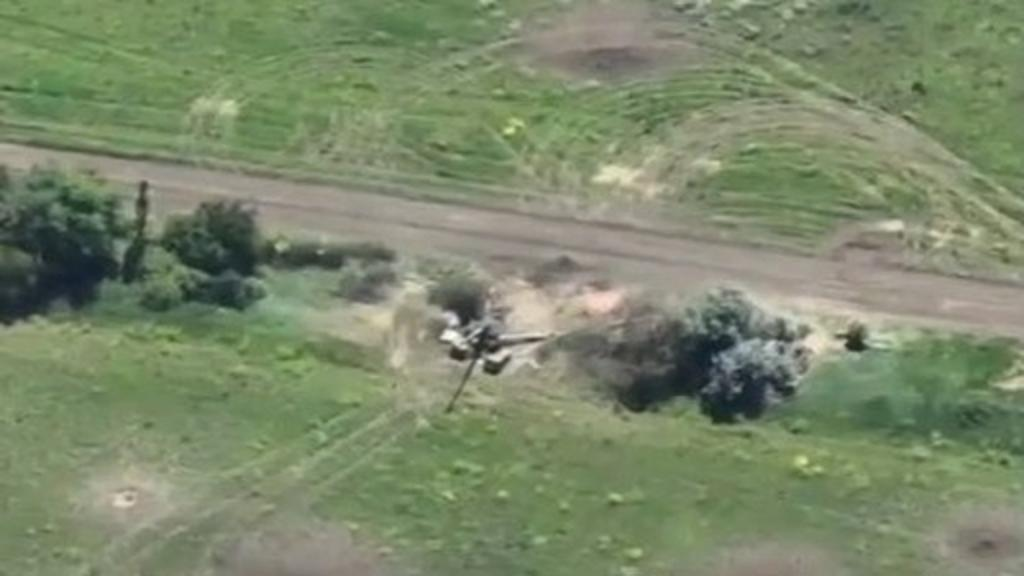ART: (444, 298, 560, 366)
